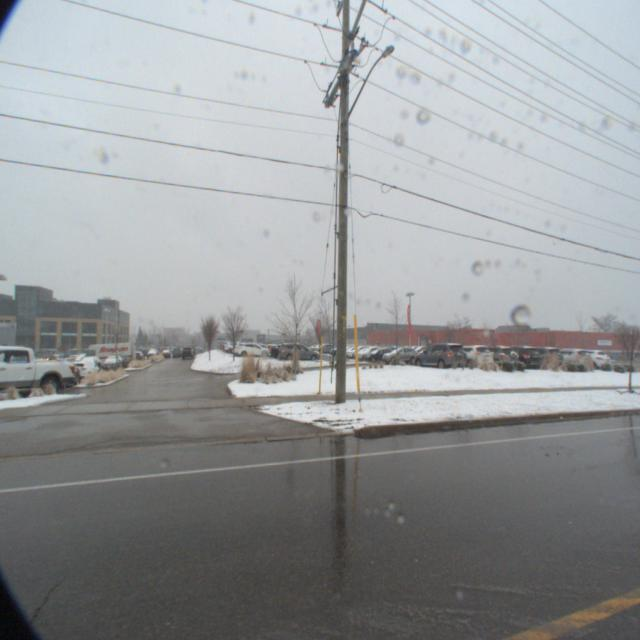Car: (464, 342, 524, 373), (440, 341, 498, 373), (414, 339, 470, 372), (275, 341, 317, 361), (378, 346, 418, 365), (232, 342, 268, 359), (362, 347, 396, 364)
Truck: (70, 343, 132, 371)
